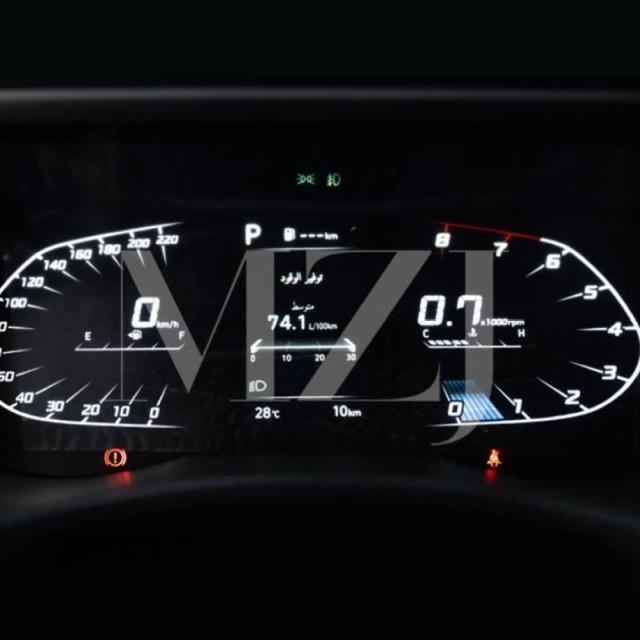Seat Belt: (486, 449, 501, 467)
